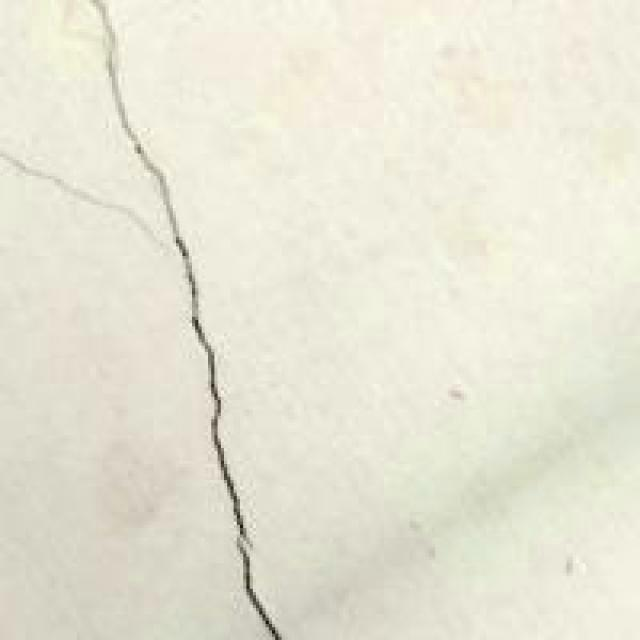SurfaceCrack: (82, 0, 296, 640)
